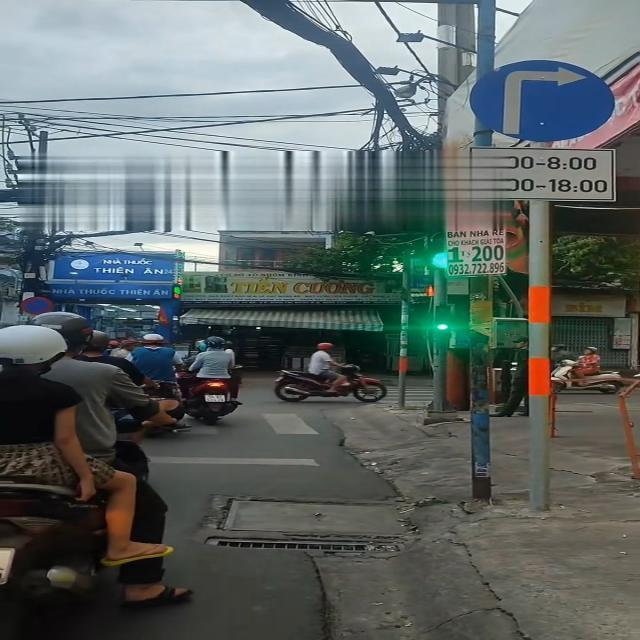301d-cac-xe-chi-duoc-re-phai-2: (468, 60, 613, 143)
